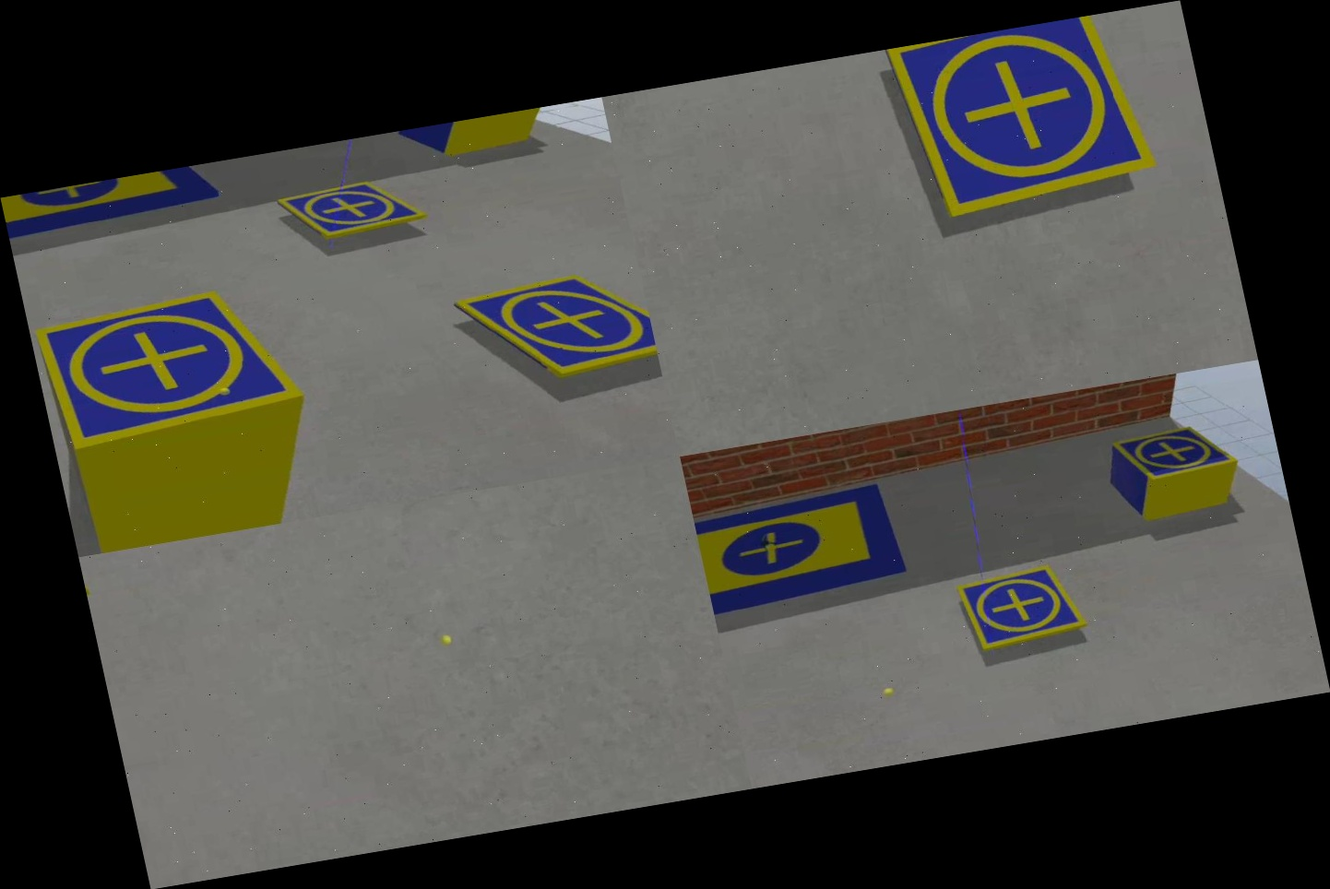large_base: (692, 479, 917, 622), (0, 161, 228, 241)
small_base: (879, 9, 1165, 229), (30, 277, 310, 456), (449, 263, 659, 394), (954, 560, 1093, 655), (277, 171, 427, 247), (1110, 420, 1241, 491)
